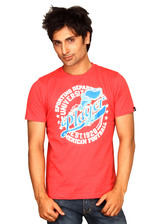clothoes: (23, 63, 138, 201)
